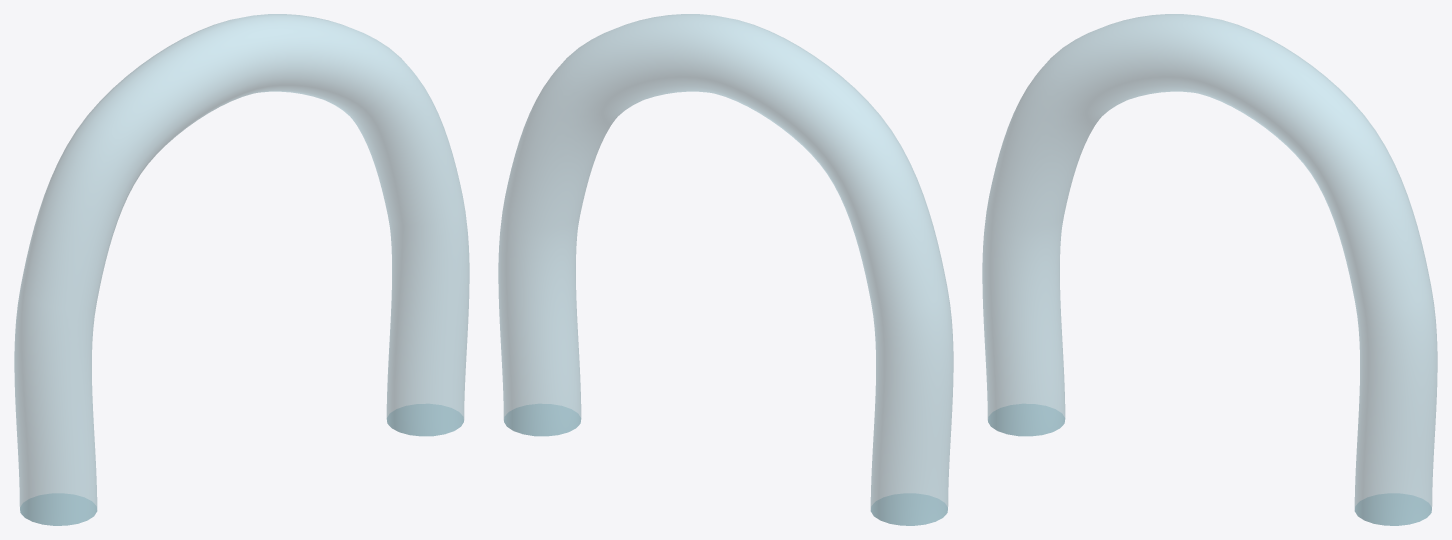
3 views of the same model, side by side, from view 1: azimuth 30°, elevation 25°; view 2: azimuth 150°, elevation 25°; view 3: azimuth 330°, elevation 25° (orthographic).
Parts seen in each view (by area): view 1: arch-frame; view 2: arch-frame; view 3: arch-frame.
Part boxes in pixels (x1=…): arch-frame: x1=14, y1=14, x2=469, y2=525; arch-frame: x1=498, y1=14, x2=953, y2=525; arch-frame: x1=982, y1=14, x2=1437, y2=525.
Bounding box in the file's own units: 2.11 × 2.01 × 0.32.
